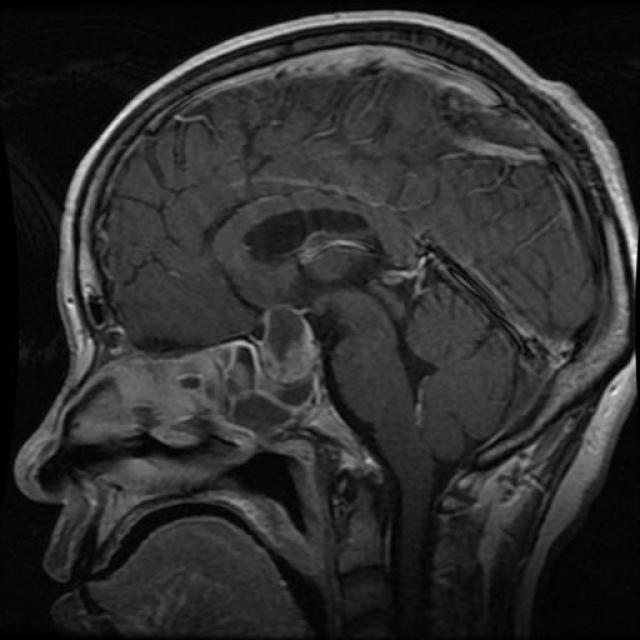pituitary: (224, 228, 374, 398)
